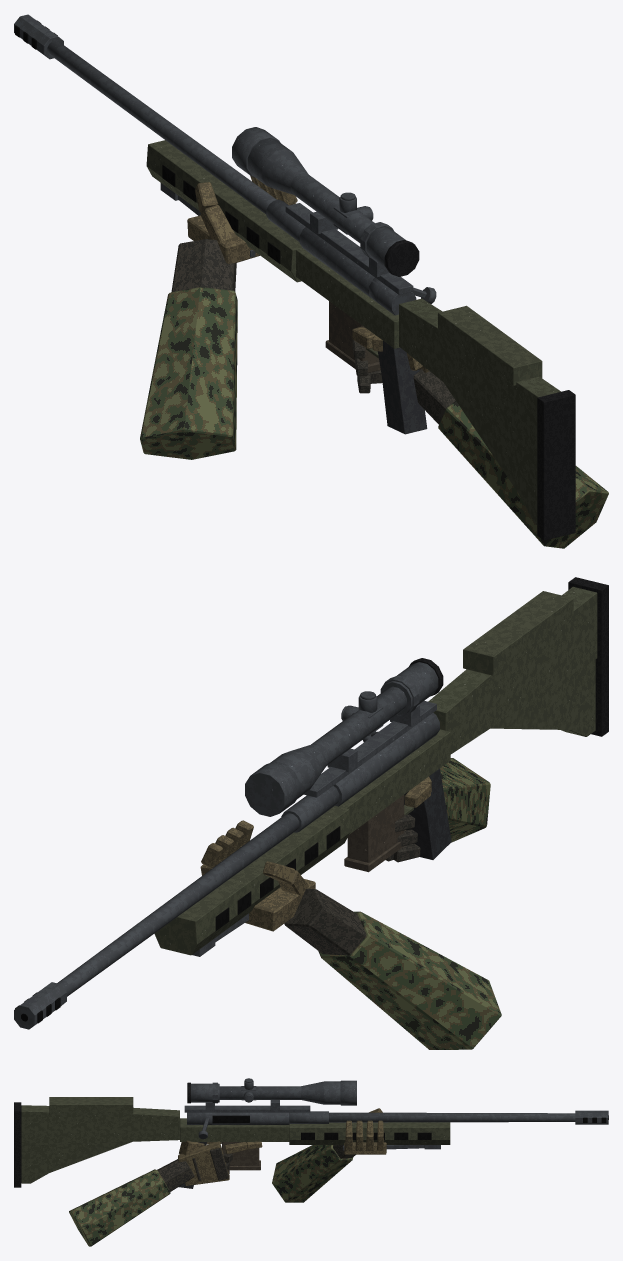
File: krzemien.glb
3 views of the same model, one above another, from view 1: azimuth 30°, elevation 25°; view 2: azimuth 150°, elevation 25°; view 3: azimuth 270°, elevation 25° (orthographic). The views are drawn at different scales.
Parts seen in each view (by area): view 1: korpus, reka_l, reka_p, magazynek; view 2: korpus, reka_l, reka_p, magazynek; view 3: korpus, reka_p, reka_l, magazynek.
Boxes of the visible parts, x1,y1,x2,y2 form: korpus: (14, 14, 575, 540); reka_l: (140, 175, 297, 459); reka_p: (352, 326, 608, 548); magazynek: (325, 301, 380, 372); korpus: (14, 577, 608, 1029); reka_l: (200, 820, 501, 1049); reka_p: (386, 758, 490, 862); magazynek: (344, 795, 404, 872); korpus: (14, 1078, 608, 1188); reka_p: (69, 1140, 262, 1246); reka_l: (272, 1108, 386, 1202); magazynek: (222, 1142, 260, 1170).
Bounding box in the file's own units: 0.3814 × 0.3592 × 1.28.
10 materials, 10 textured.
